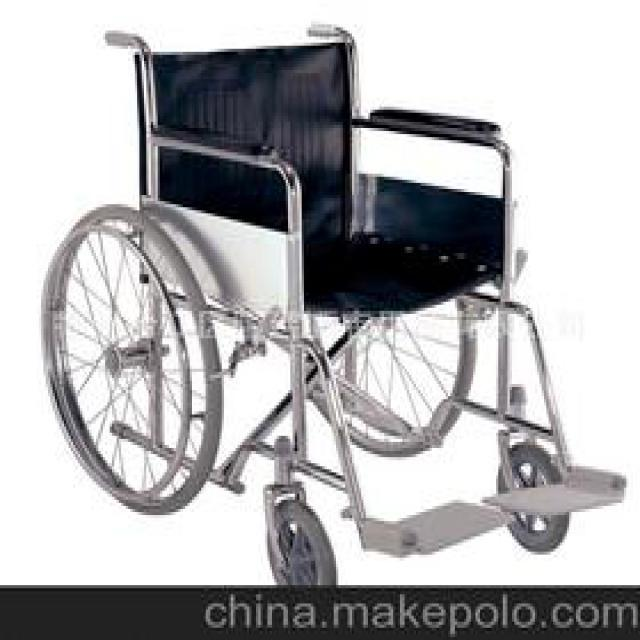wheelchair: (34, 18, 629, 582)
